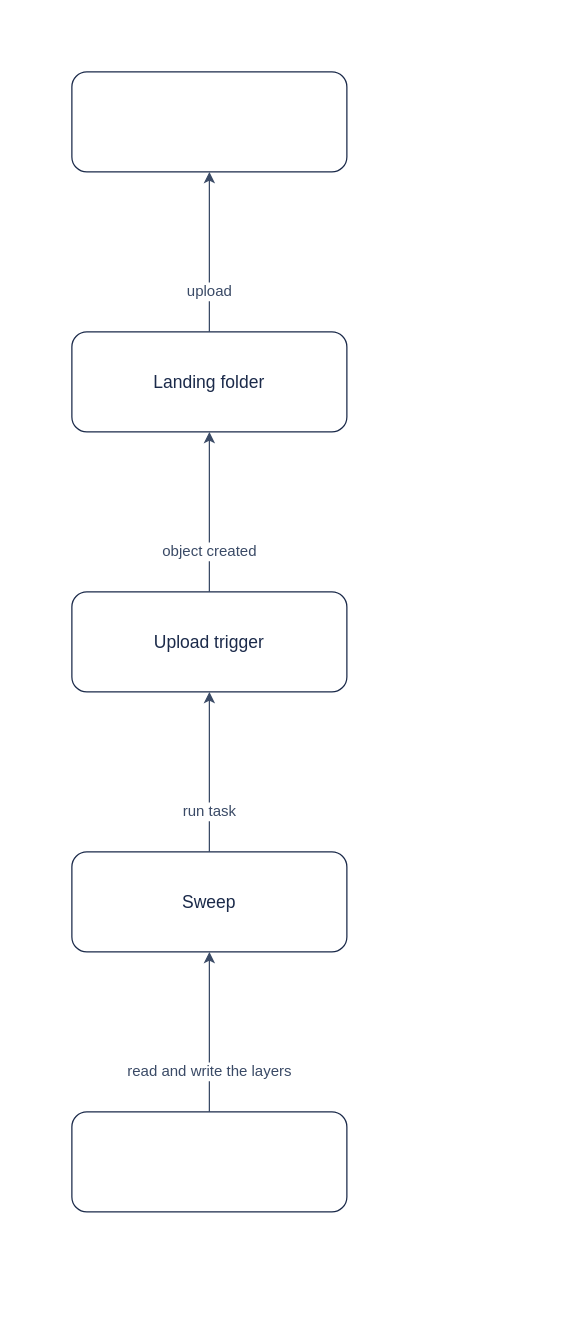
The diagram is 568 pixels wide and 1333 high, and some of its shapes have lost their labels. The shapes that lost their labels are listed below. From the top down, each one's centre as x and y in pixels, then its label:
At (209,121): "Administrator".
At (209,1161): "Lake".
